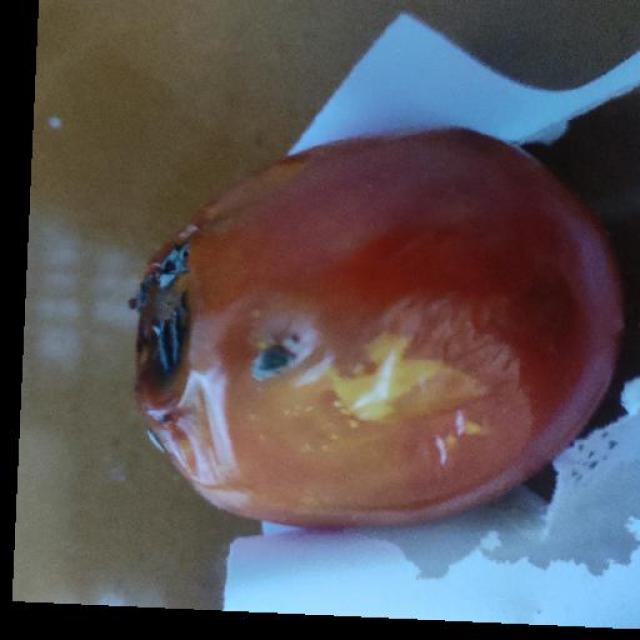Stale_tomato: (64, 137, 618, 549)
